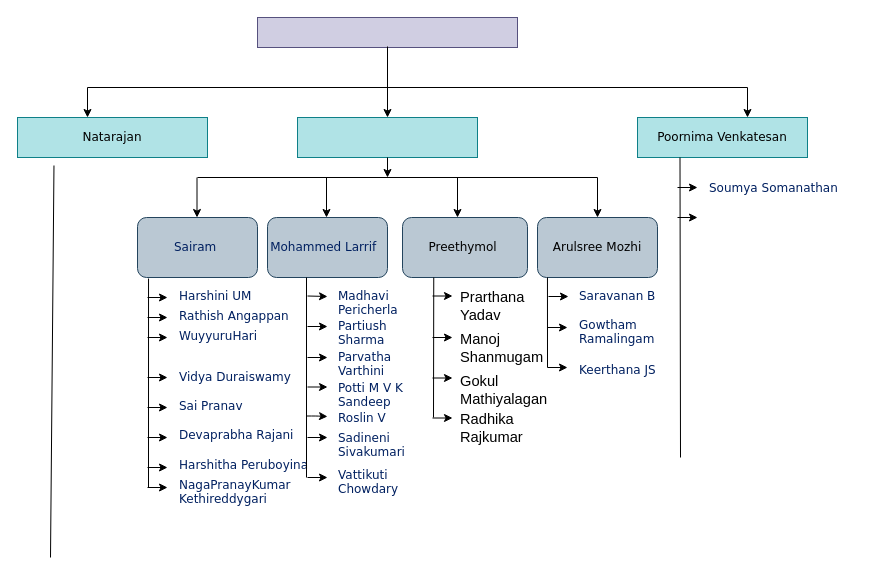
This 875x576 diagram has some shape labels left out. The centre of each missing label's shape, as x and y in pixels:
"ArunSelvam Natarajan" goes at point (387, 137).
"BalaKrishna Kasukurthi" goes at point (387, 32).
